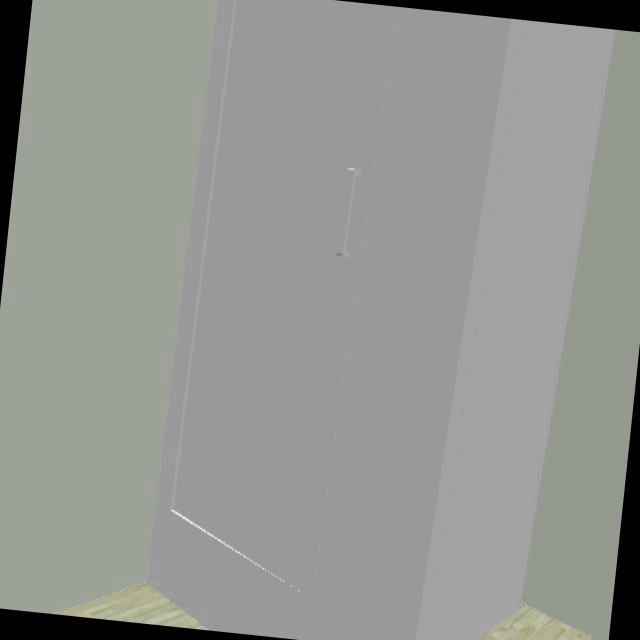shower: (148, 0, 619, 640)
